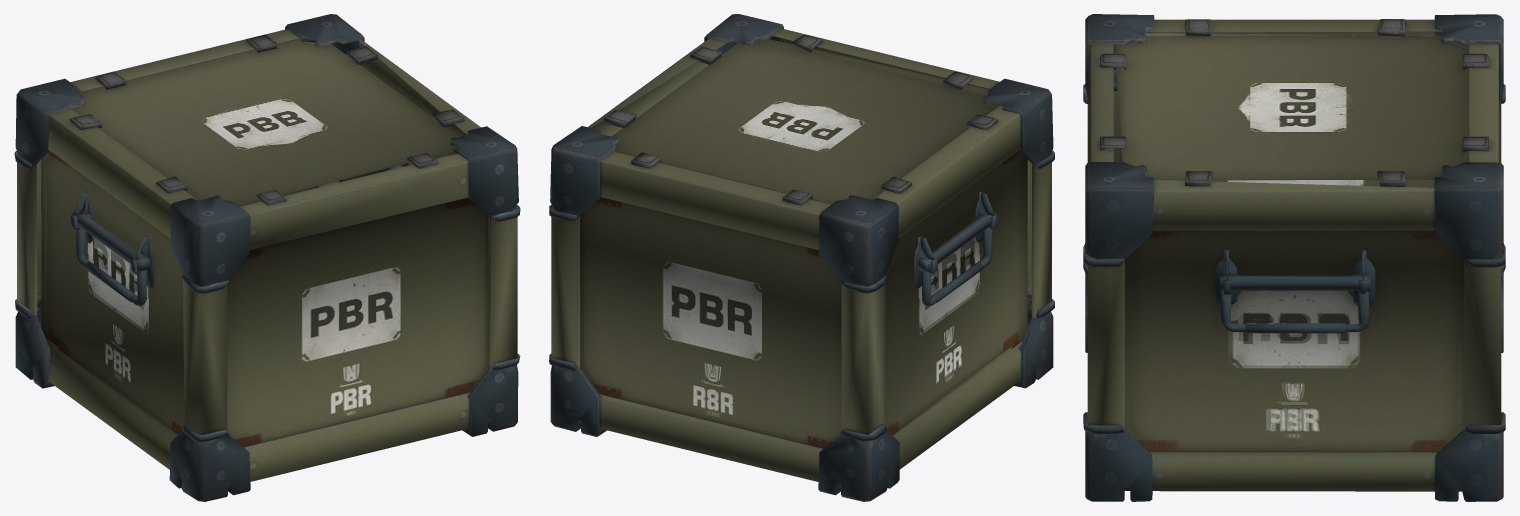
Rendered from prp_supply_crate.glb.
The picture shows the model from 3 angles, left to right: view 1: azimuth 30°, elevation 25°; view 2: azimuth 150°, elevation 25°; view 3: azimuth 270°, elevation 25°; orthographic projection. The views are drawn at different scales.
Bounding box in the file's own units: 0.9536 × 0.7705 × 0.938.
1 material, 1 textured.
